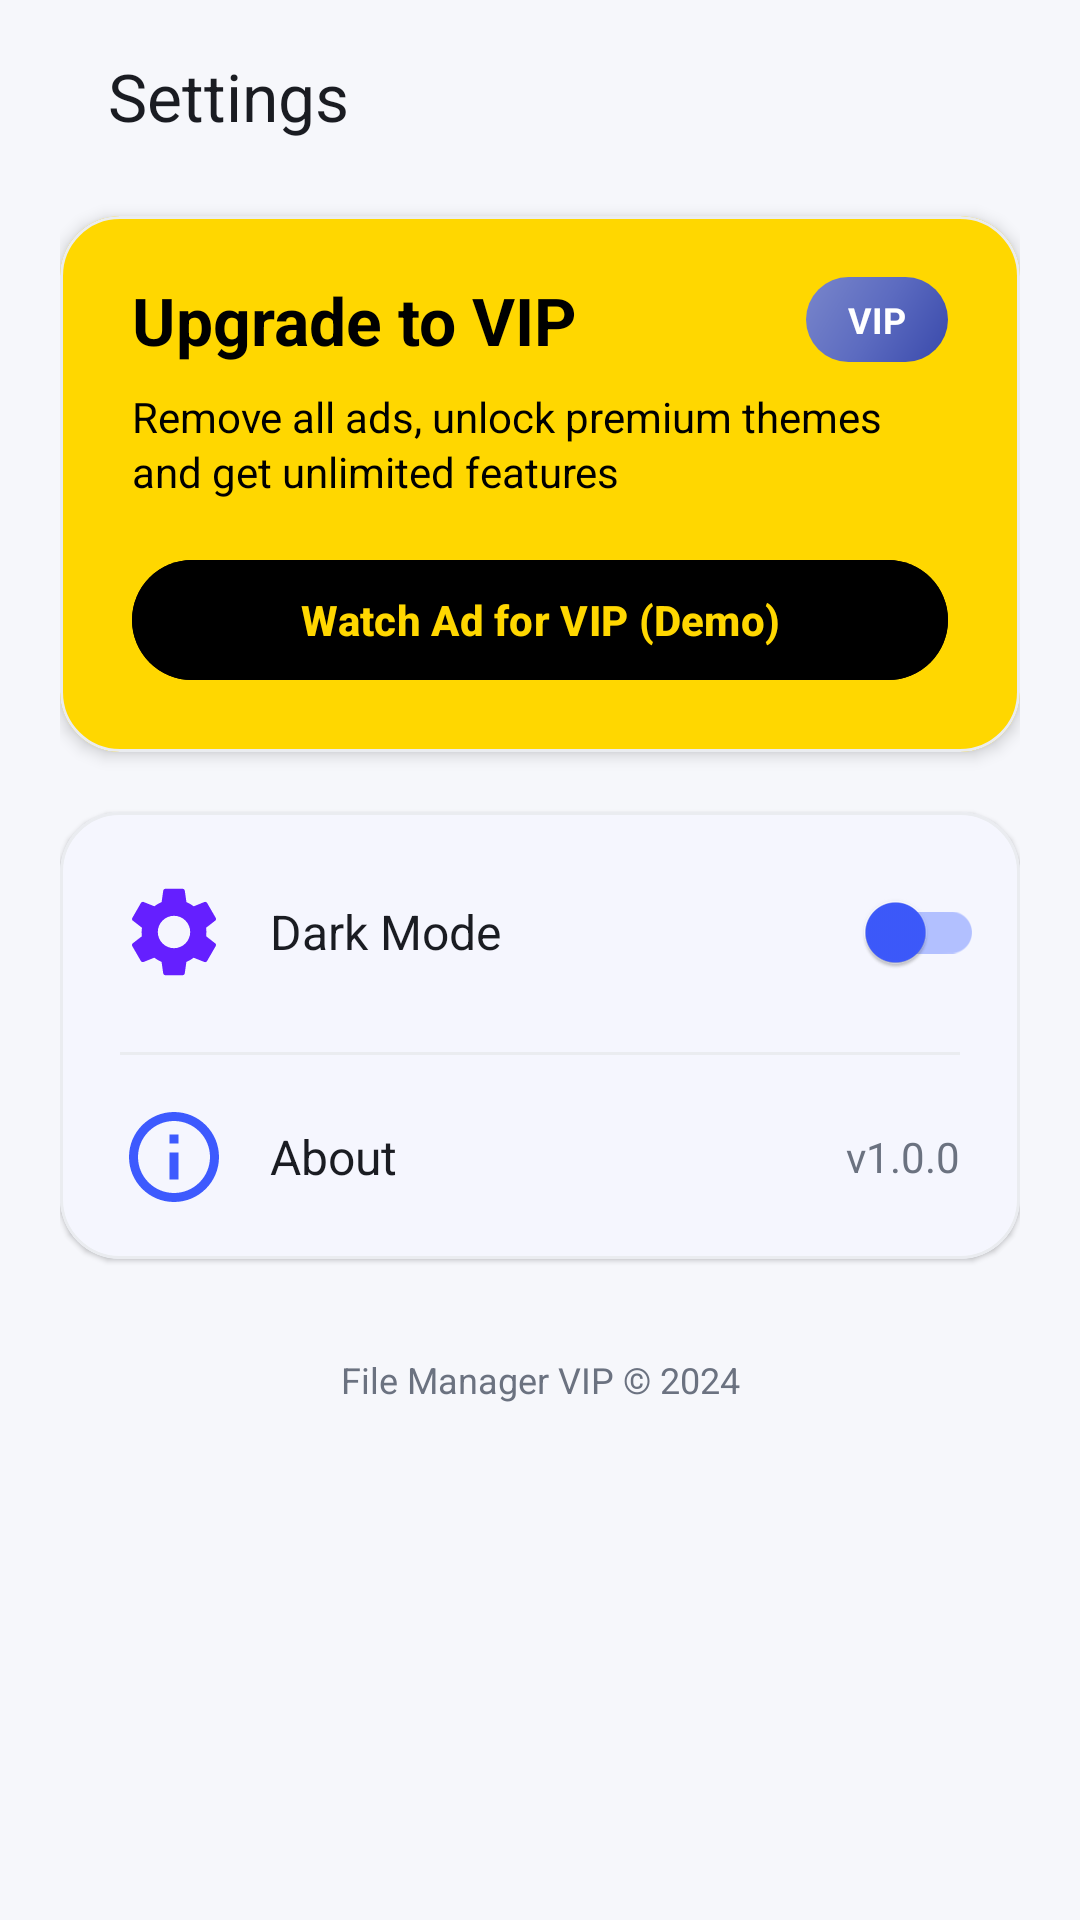

Icons on this 1080x1920 Android screen, each with its box as region(x1, y1, x2, y2):
info: region(129, 1112, 219, 1202)
settings: region(132, 888, 216, 976)
